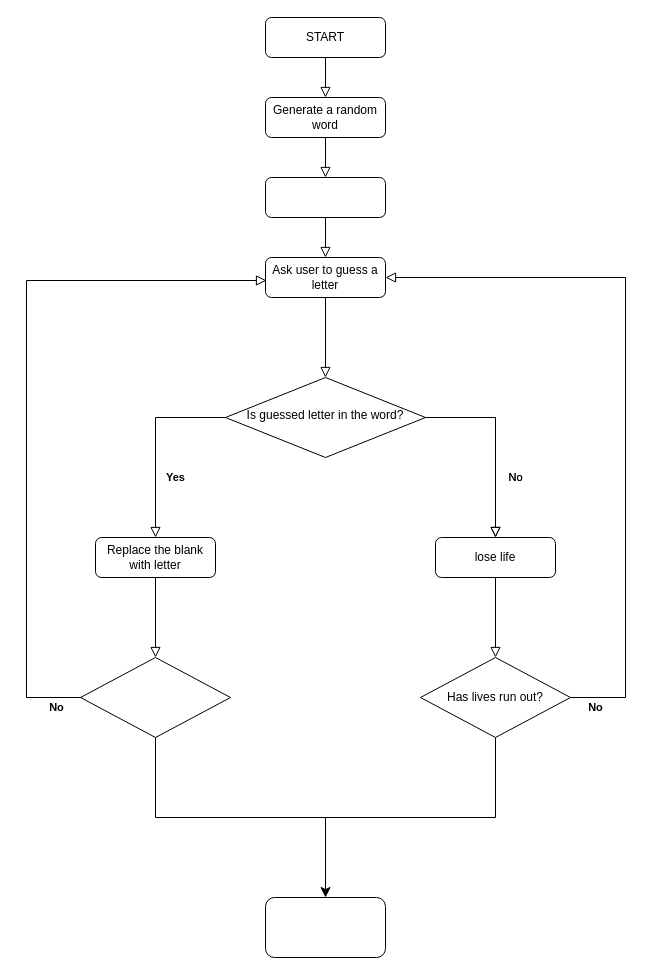
This 653x975 diagram has some shape labels left out. Each missing label, with the centre of its shape:
Are all the blanks filled?: (155,697)
Game Over: (325,927)
Generate as many blanks as in the word: (325,197)
